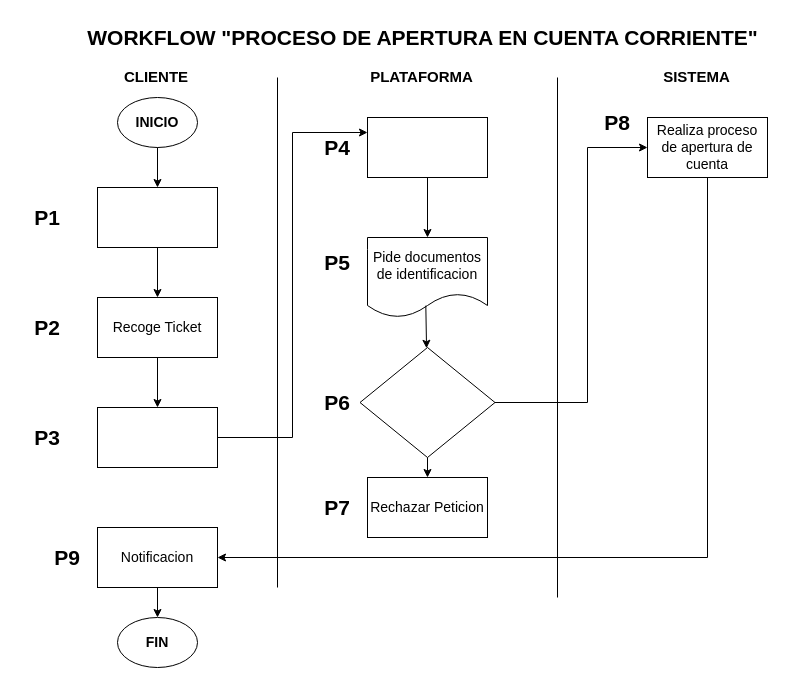
This 785x685 diagram has some shape labels left out. Each missing label, with the centre of its shape:
Atiende al cliente: pixel 427 147
Documentos en orden?: pixel 427 402
Espera turno: pixel 157 437
Ingresar al banco: pixel 157 217
